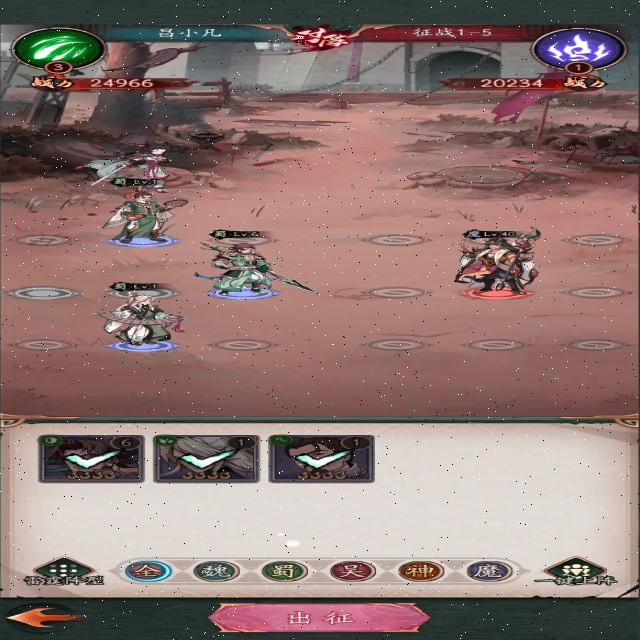navigation-myHeroes: (265, 432, 379, 486), (32, 432, 147, 485), (152, 432, 260, 484)
operation-back: (4, 603, 100, 632)
operation-camp: (456, 556, 520, 584), (382, 558, 456, 582), (324, 559, 380, 584), (188, 560, 242, 584), (120, 559, 173, 583), (258, 560, 308, 582)
operation-confirm: (203, 602, 432, 636)
operation-deployment: (17, 554, 110, 588)
operation-oneKeyDeployment: (525, 556, 619, 589)
